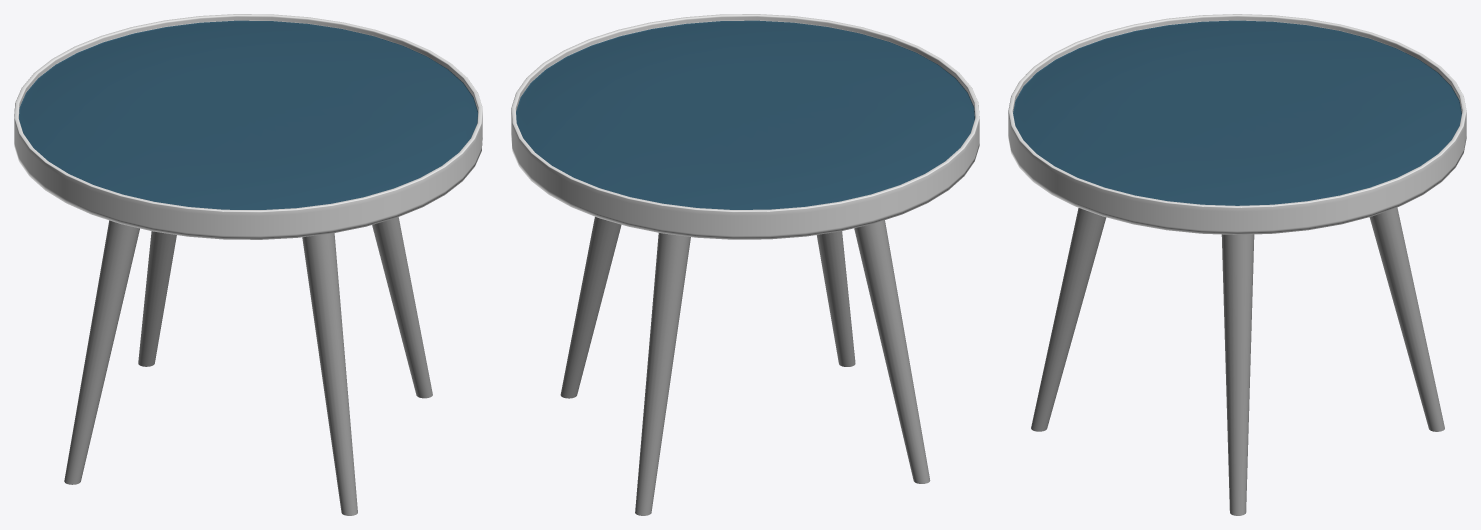
The model's file is smallcirculartable.fbx.
3 renders of one model, left to right at view 1: azimuth 30°, elevation 25°; view 2: azimuth 150°, elevation 25°; view 3: azimuth 270°, elevation 25°, orthographic. The views are drawn at different scales.
Parts seen in each view (by area): view 1: pCylinder47; view 2: pCylinder47; view 3: pCylinder47.
Part boxes in pixels (x1,y1,x2,y2): pCylinder47: (14,14,482,515); pCylinder47: (511,14,979,515); pCylinder47: (1008,14,1466,515).
Bounding box in the file's own units: 5.23 × 4.01 × 5.23.
